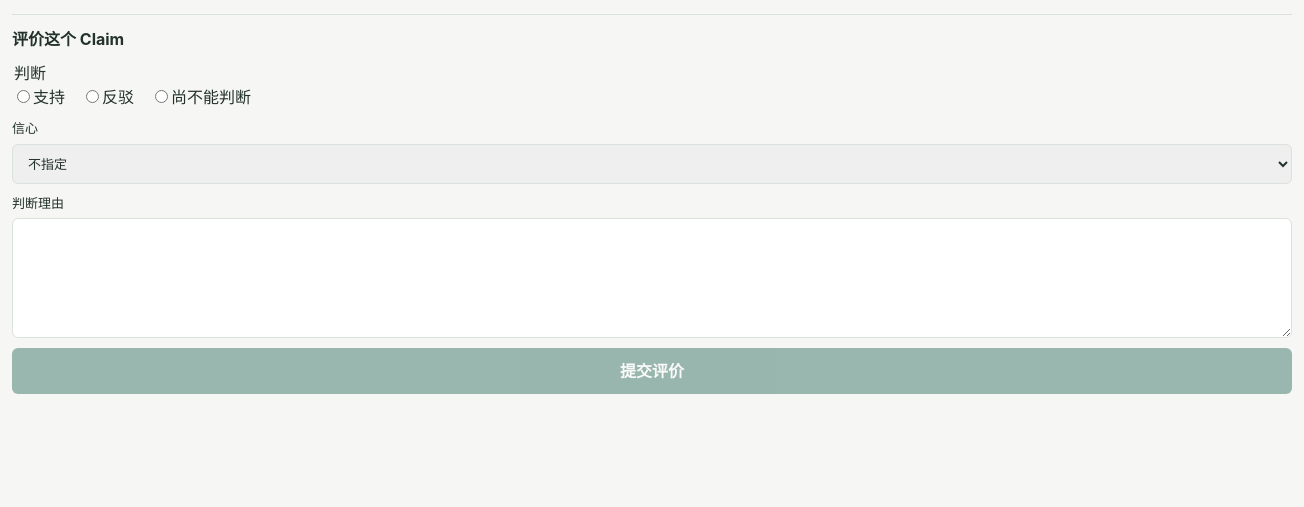
Test case: known POST failures › stale preview clears receipt, preserves judgment fields, and asks parent to invalidate preview
The width and height of the screenshot is (1304, 507).
Click the radio button labelled "支持" at point(24, 96), box [17,90,30,103]
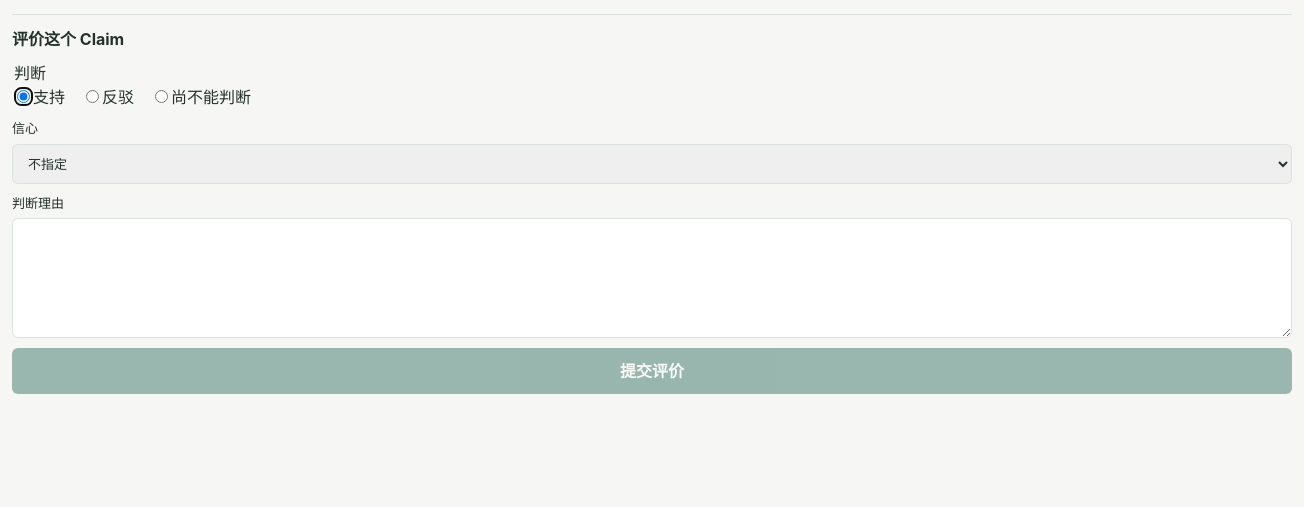
Type "当前证据支持。" into the text box labelled "判断理由" at point(652, 278), box [12,218,1292,338]
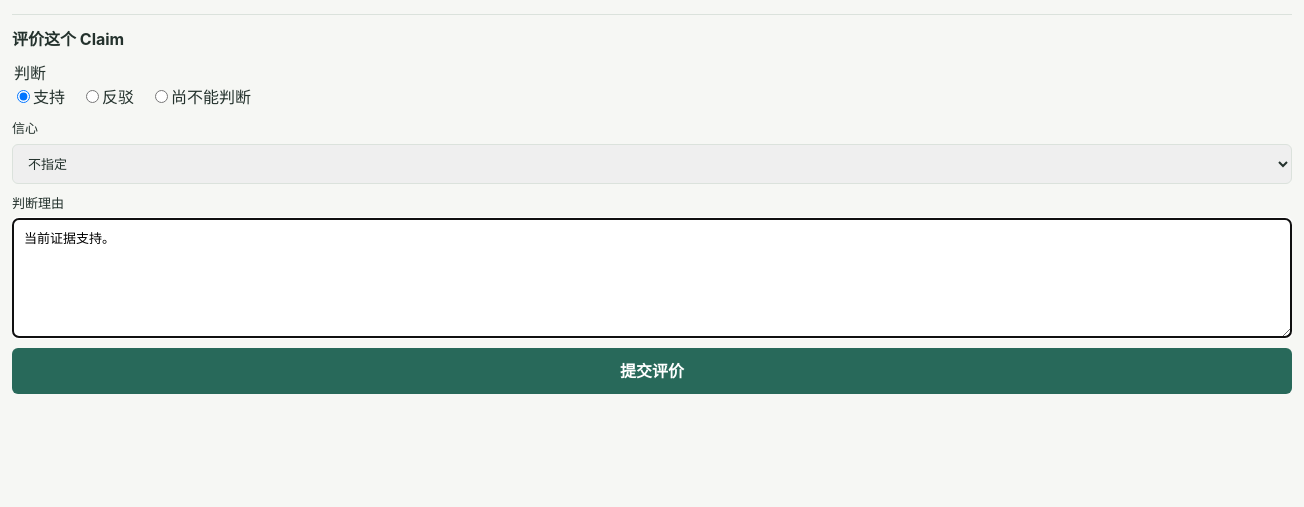
Select "HIGH" in the dropdown labelled "信心" at point(652, 164), box [12,144,1292,184]
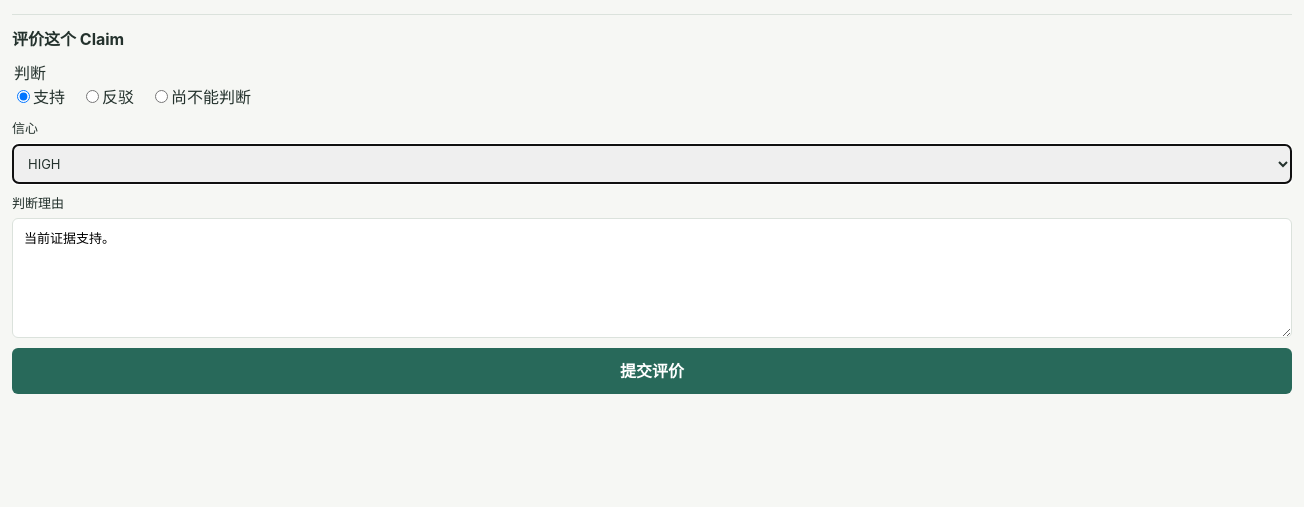
Click the button "提交评价" at point(652, 370), box [12,348,1292,394]
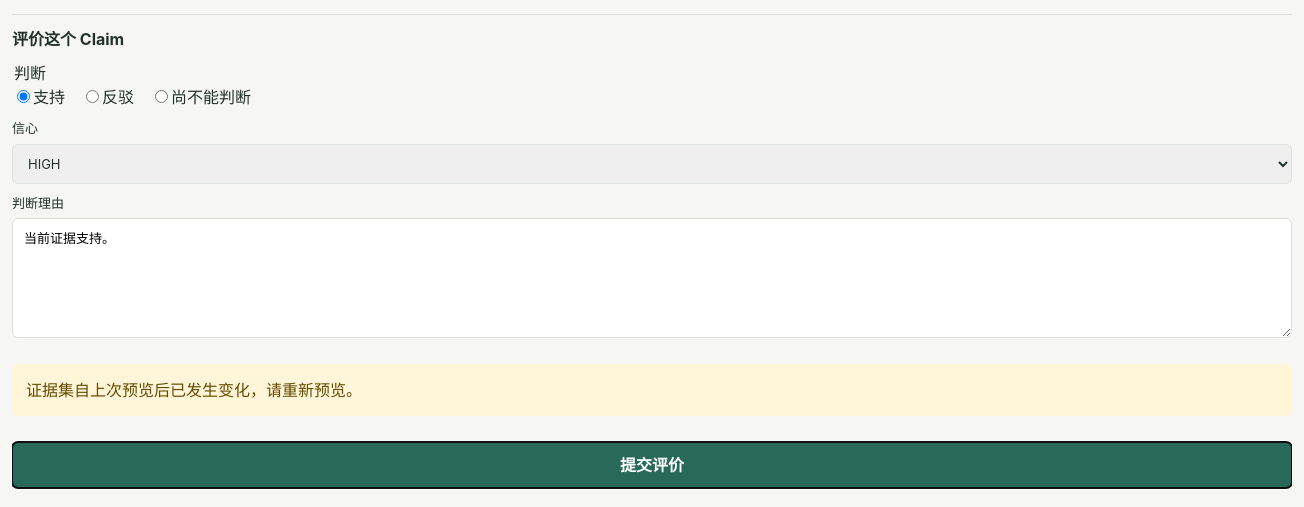
Expected: the radio button labelled "支持" is checked, [17,90,30,103]
Expected: the text "证据集自上次预览后已发生变化，请重新预览。" is shown, [12,364,1292,416]
